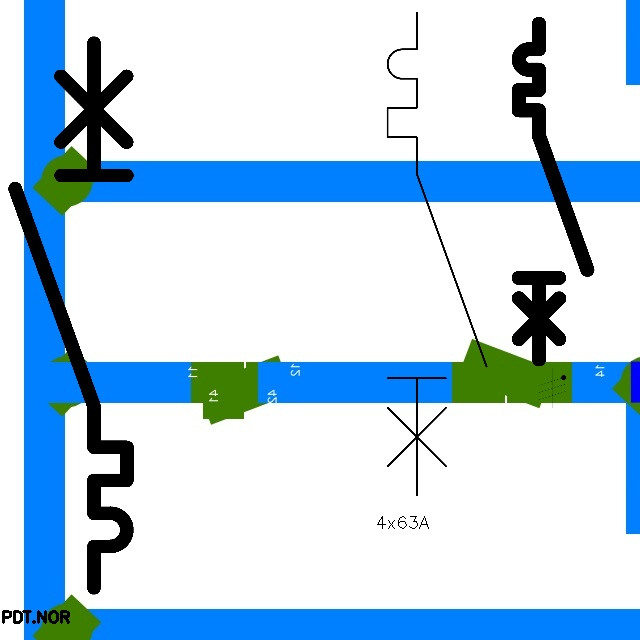interruptor_termomagnetico: (1, 29, 141, 602), (375, 0, 499, 508), (510, 15, 596, 368)
